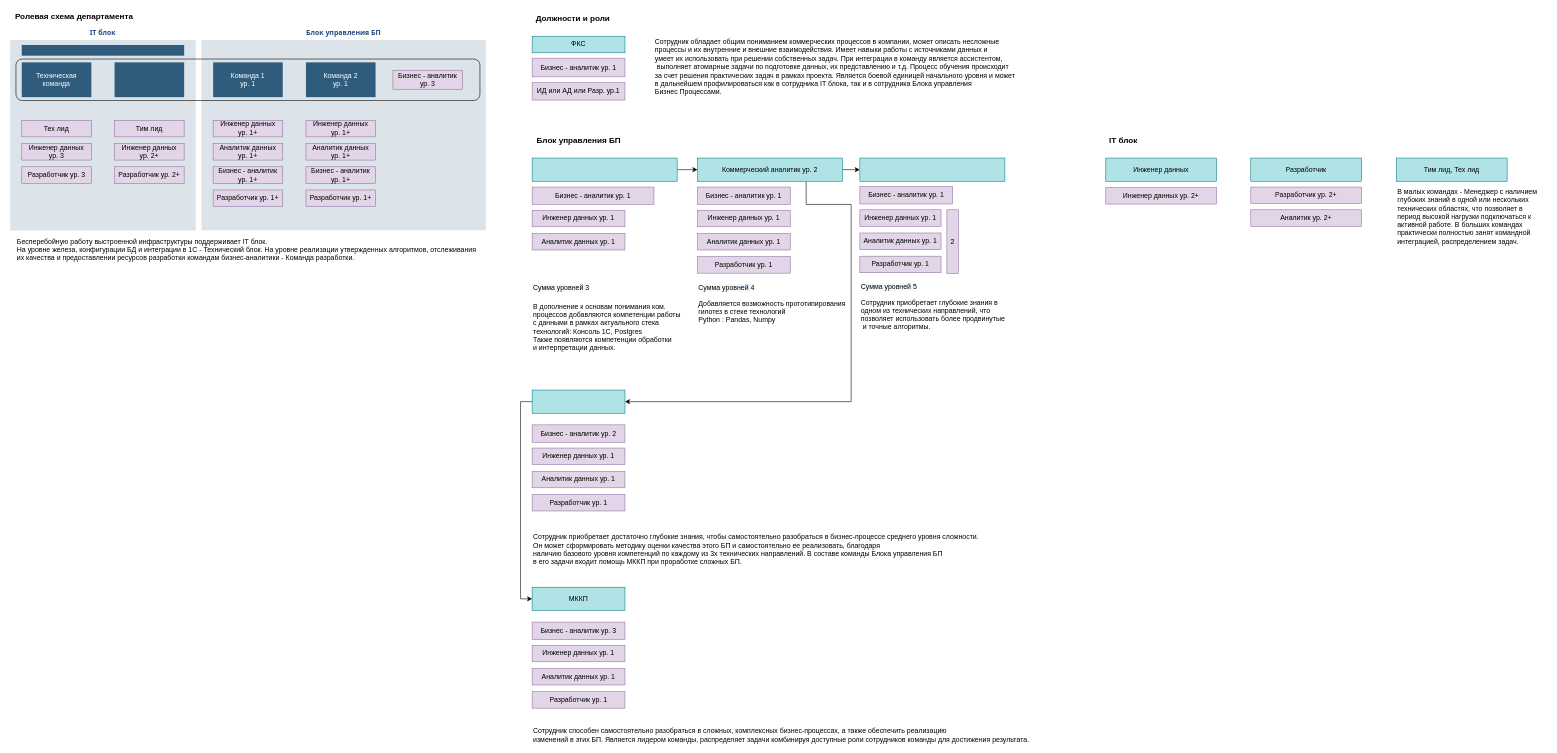
Some shapes in this 1557 by 753 pixel diagram are drawn without their labels. The shapes that lost their labels are listed below. From the top down, each one's box as (x1, y1, x2, y2) in pixels, then its label:
(21, 45, 184, 55): DevOps методология
(114, 62, 184, 97): Команда разработки
(532, 157, 677, 181): Коммерческий аналитик ур. 1
(859, 157, 1005, 181): Коммерческий аналитик ур. 3
(532, 389, 625, 413): МКП
